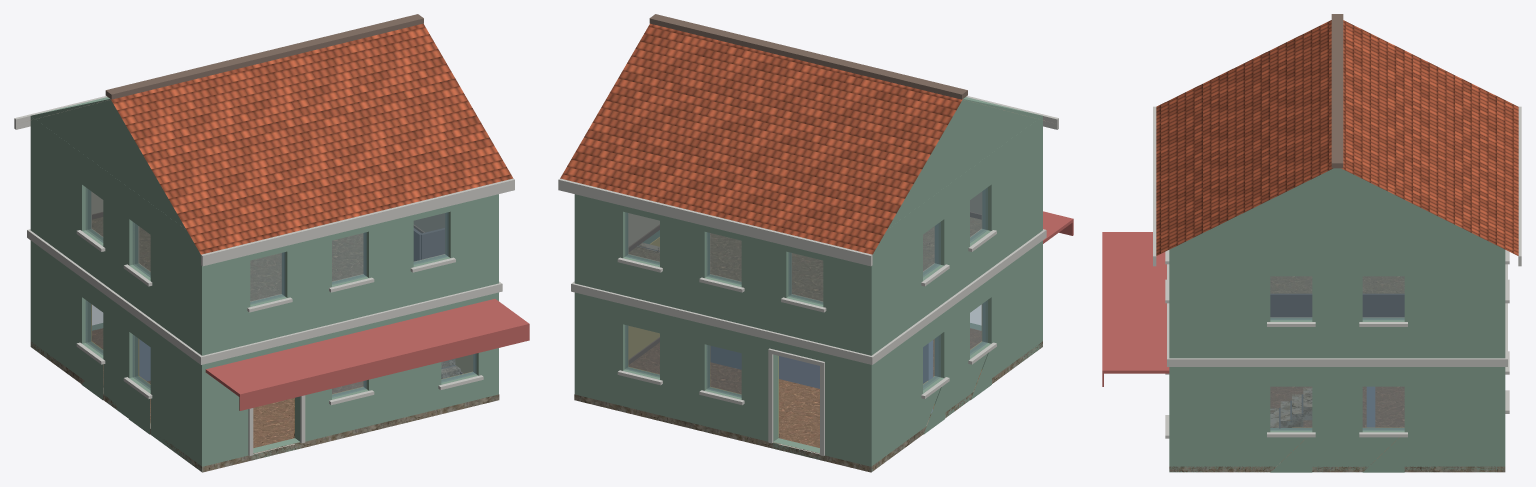
Rendered from cove-house-green.zfix-v7.lod0.glb.
3 views of the same model, side by side, from view 1: azimuth 30°, elevation 25°; view 2: azimuth 150°, elevation 25°; view 3: azimuth 270°, elevation 25° (orthographic). The views are drawn at different scales.
Visible parts, largest first — view 1: cove-house-green; view 2: cove-house-green; view 3: cove-house-green.
Boxes of the visible parts, <box> form: cove-house-green: <box>14,14,529,472</box>; cove-house-green: <box>558,14,1073,472</box>; cove-house-green: <box>1102,14,1521,472</box>.
Size of the model in its own units: 8.42 by 8.23 by 9.99.
5 materials, 3 textured.
